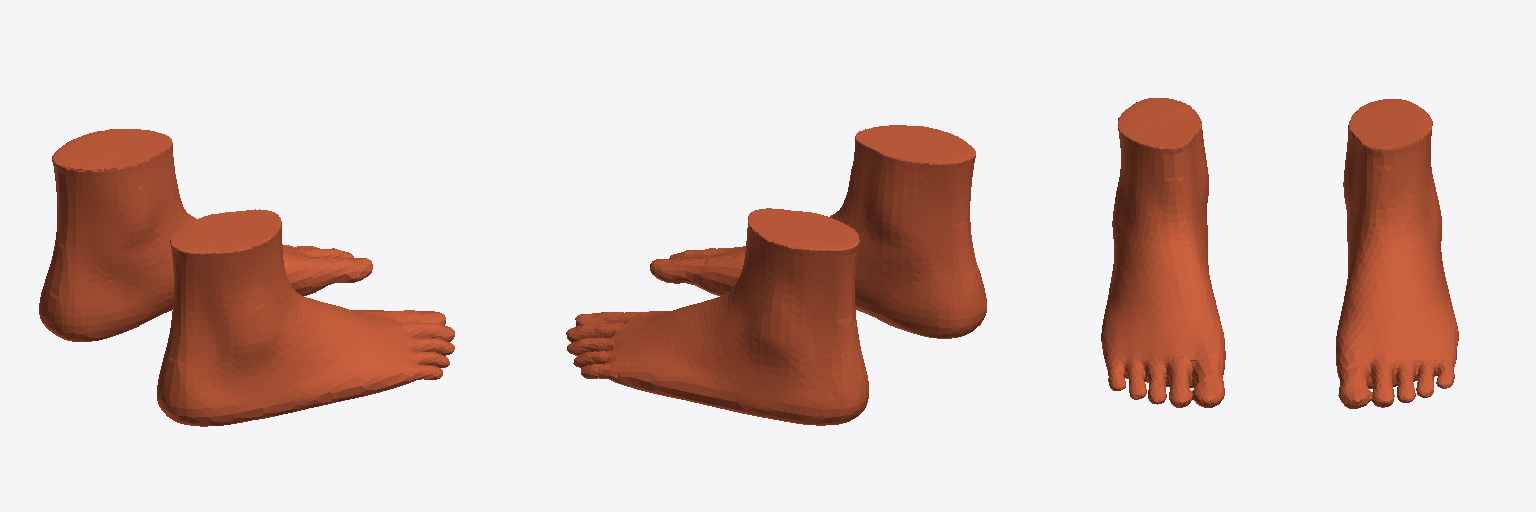
The model's file is pie2.obj.
The picture shows the model from 3 angles: view 1: azimuth 30°, elevation 25°; view 2: azimuth 150°, elevation 25°; view 3: azimuth 270°, elevation 25°; orthographic projection.
Parts seen in each view (by area): view 1: 11536_foot_V3; view 2: 11536_foot_V3; view 3: 11536_foot_V3.
Part boxes in pixels (x1,y1,x2,y2): 11536_foot_V3: (39, 129, 454, 426); 11536_foot_V3: (566, 125, 986, 425); 11536_foot_V3: (1101, 98, 1458, 408).
Bounding box in the file's own units: 0.2729 × 0.155 × 0.275.